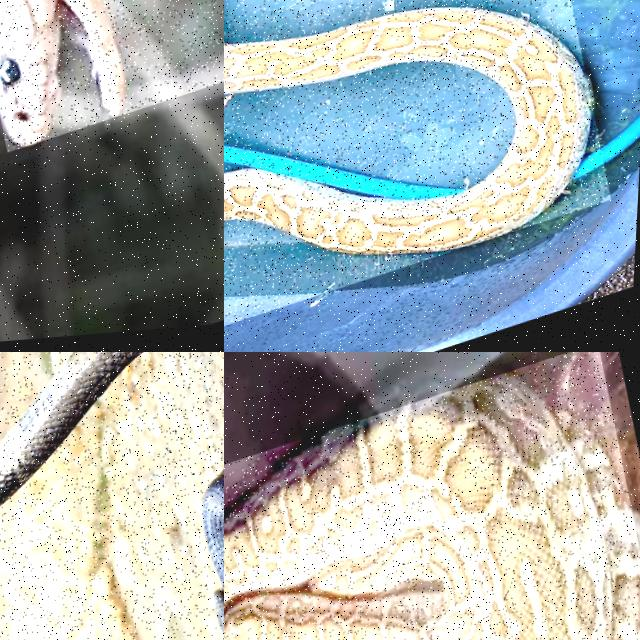Naja kaouthia: (0, 0, 124, 145)
Ophiophagus hannah: (0, 352, 141, 504)
Python bivittatus: (224, 376, 639, 639), (224, 6, 594, 252)
